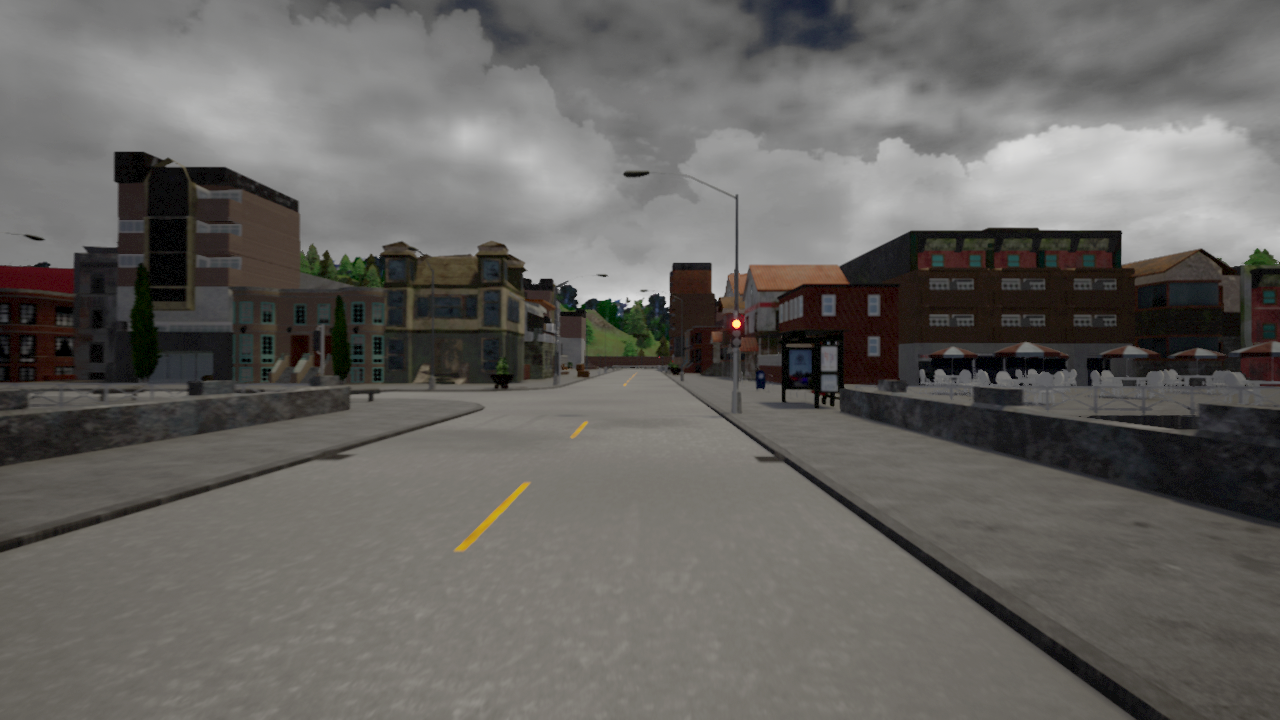red: (730, 318, 741, 348)
